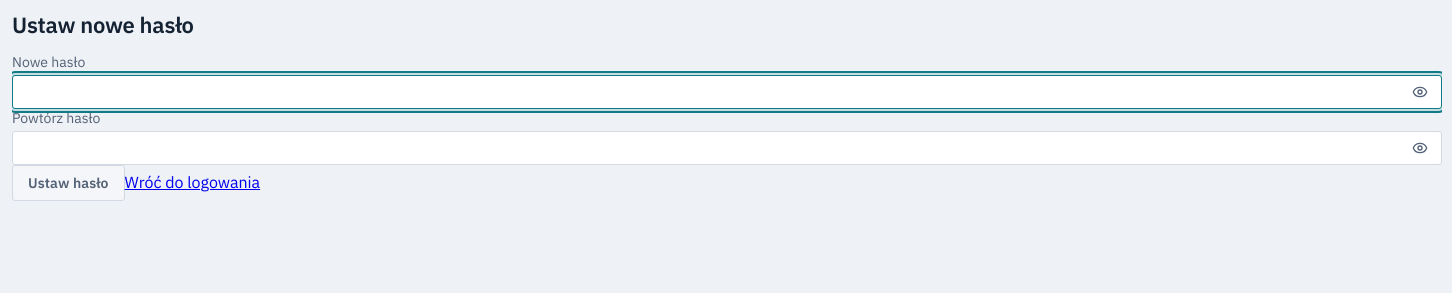
Test: ustawienie nowego hasła z linku › wygasły link — błąd z API, formularz zostaje
Type "dlugiehaslo1" into the password field labelled "Nowe hasło" at (727, 92), box [12,76,1442,110]
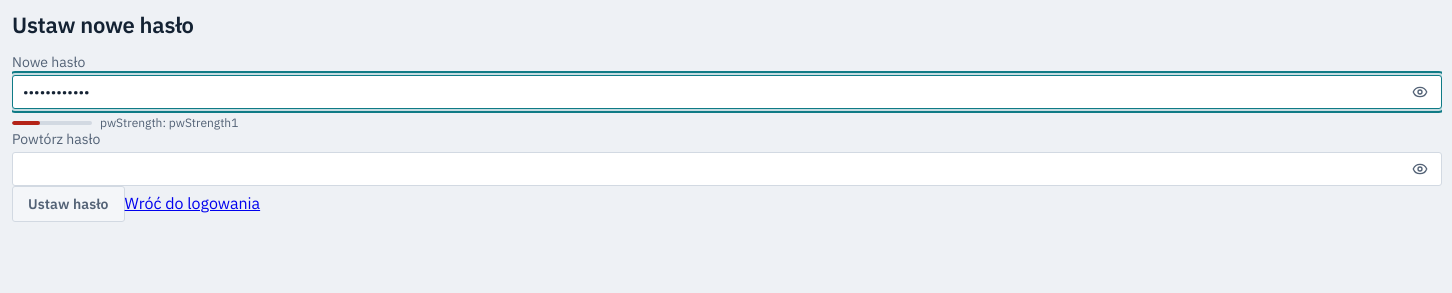
Type "dlugiehaslo1" into the password field labelled "Powtórz hasło" at (727, 170), box [12,152,1442,186]
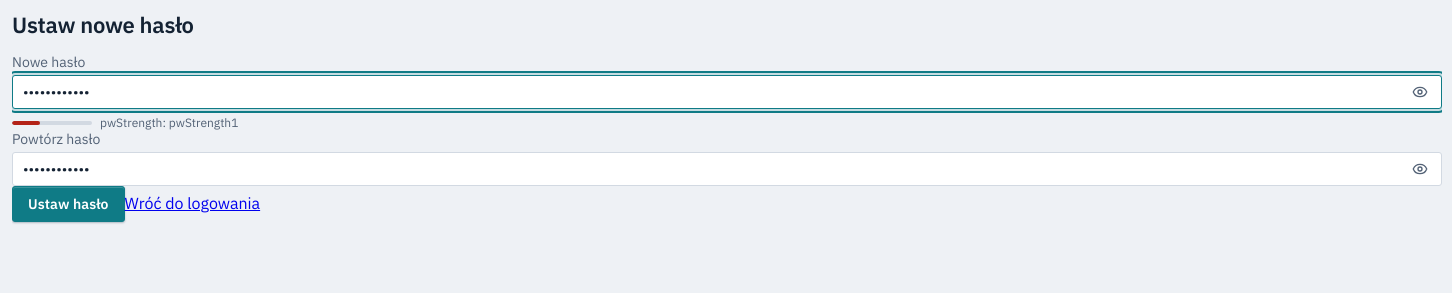
Click the button "Ustaw hasło" at (68, 204), box [12,186,125,222]
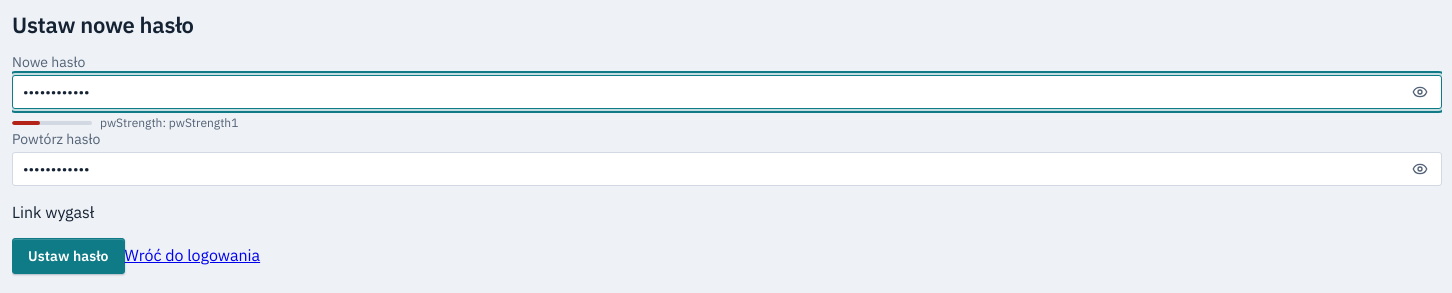
Check: the text "Link wygasł" is shown, box [12,202,94,222]
